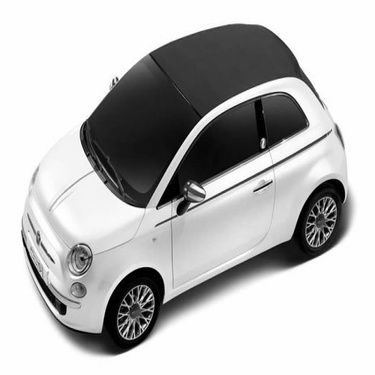car: (17, 15, 351, 351)
